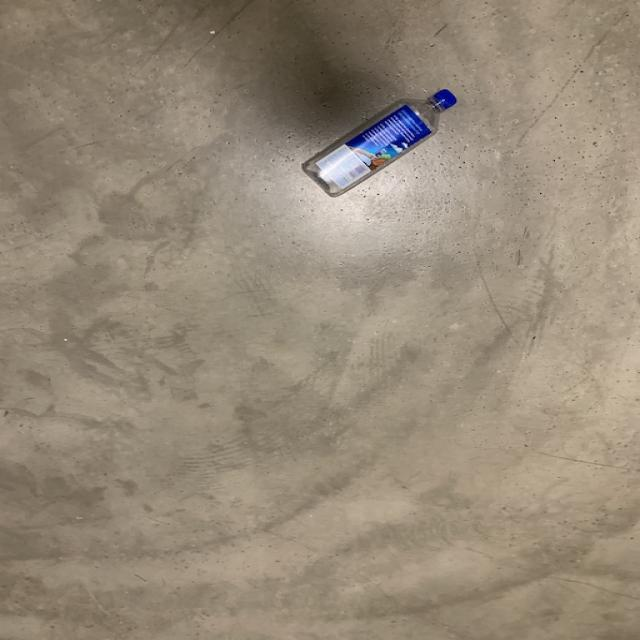Waste: (304, 89, 458, 196)
